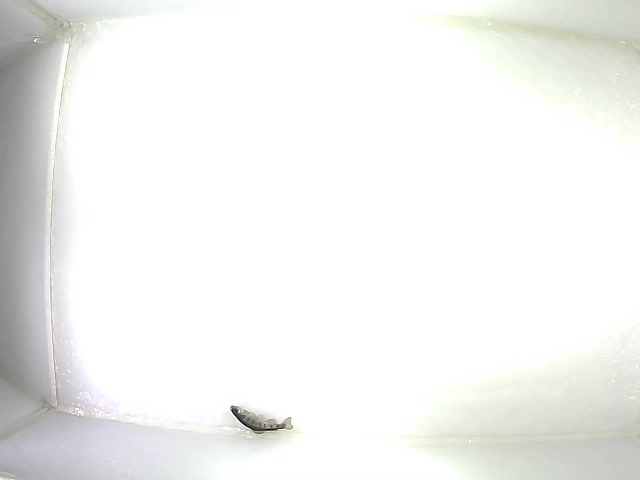fish: (230, 405, 295, 435)
